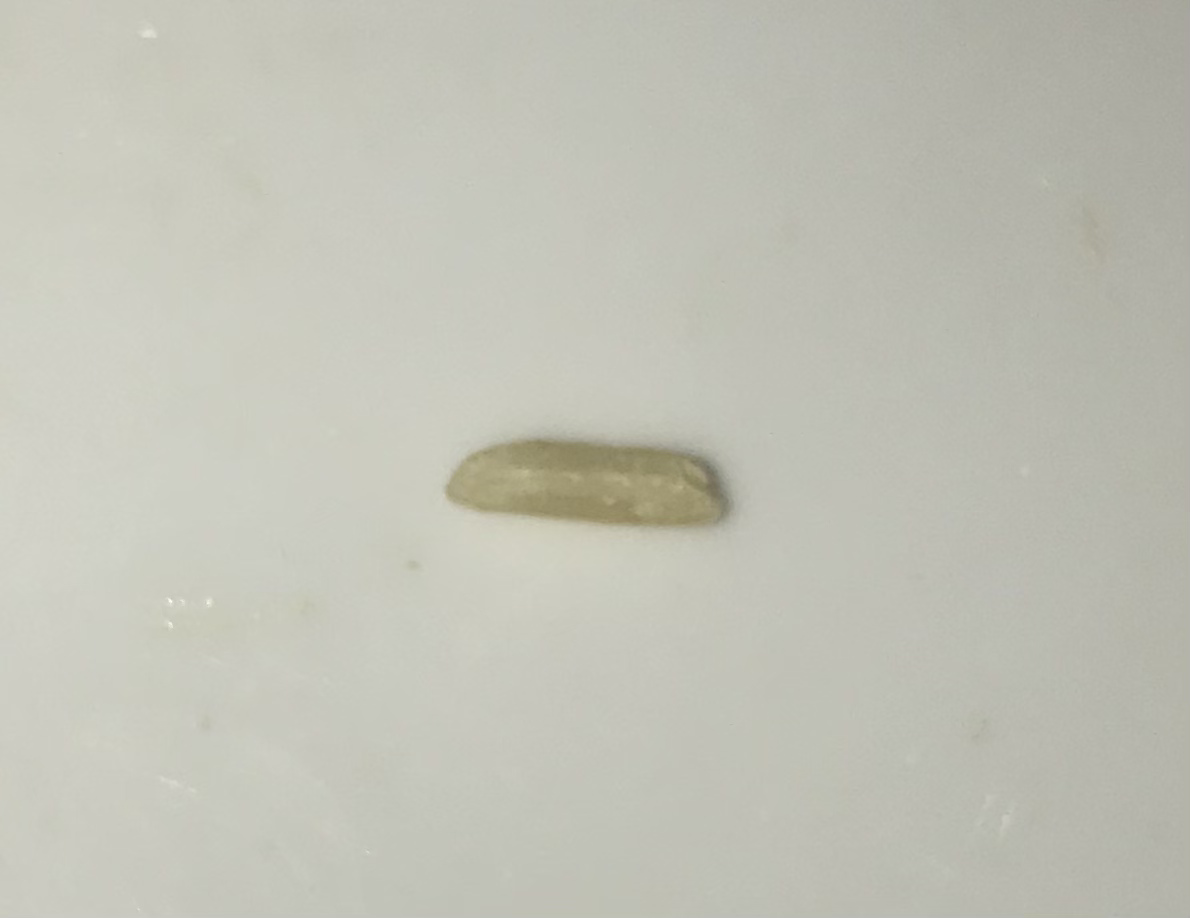Gao Lut Trang: (455, 427, 735, 534)
